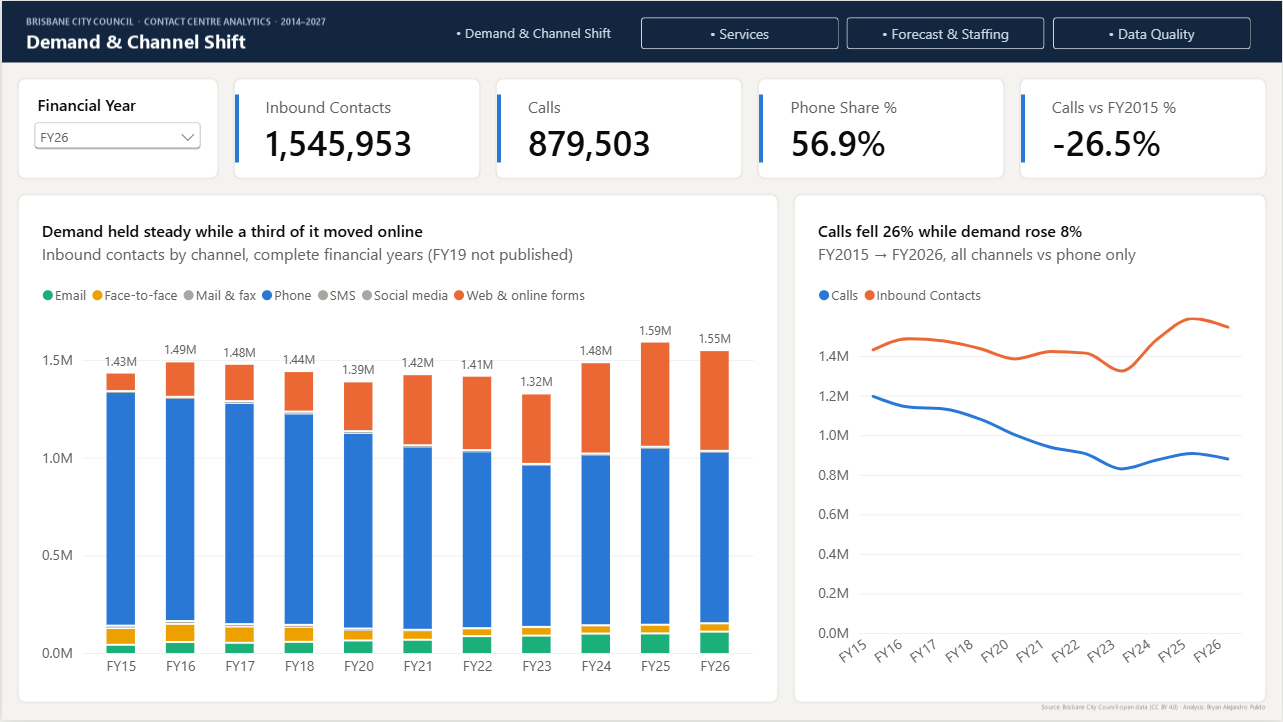

This screenshot's page, from the dashboard's own definition file:
{"tool":"powerbi","page":{"name":"• Demand & Channel Shift","canvas":[1280,720],"ordinal":0},"visuals":[{"type":"slicer","fields":{"Values":["bi dim_date.fy_label"]},"box":[28,92,176,76],"z":0},{"type":"cardVisual","fields":{"Data":["_Measures.Inbound Contacts"]},"box":[248,88,222,84],"z":1000},{"type":"cardVisual","fields":{"Data":["_Measures.Calls"]},"box":[510,88,222,84],"z":2000},{"type":"cardVisual","fields":{"Data":["_Measures.Phone Share %"]},"box":[772,88,222,84],"z":3000},{"type":"cardVisual","fields":{"Data":["_Measures.Calls vs FY2015 %"]},"box":[1034,88,222,84],"z":4000},{"type":"columnChart","title":"Demand held steady while a third of it moved online","fields":{"Category":["bi dim_date.fy_label"],"Series":["bi dim_channel.channel_group"],"Y":["_Measures.Inbound Contacts"]},"box":[24,204,744,492],"z":5000},{"type":"lineChart","title":"Calls fell 26% while demand rose 8%","fields":{"Category":["bi dim_date.fy_label"],"Y":["_Measures.Calls","_Measures.Inbound Contacts"]},"box":[800,204,456,492],"z":6000},{"type":"pageNavigator","box":[432,16,816,32],"z":6001}]}

Visuals, with their boxes in screenshot pixels (x1, y1, x2, y2), scaled from the page's 1280x720 canvas onto the 1283x722 screenshot:
slicer - bi dim_date.fy_label: [28,92,204,168]
cardVisual - _Measures.Inbound Contacts: [249,88,471,172]
cardVisual - _Measures.Calls: [511,88,734,172]
cardVisual - _Measures.Phone Share %: [774,88,996,172]
cardVisual - _Measures.Calls vs FY2015 %: [1036,88,1259,172]
"Demand held steady while a third of it moved online" columnChart: [24,205,770,698]
"Calls fell 26% while demand rose 8%" lineChart: [802,205,1259,698]
pageNavigator: [433,16,1251,48]
